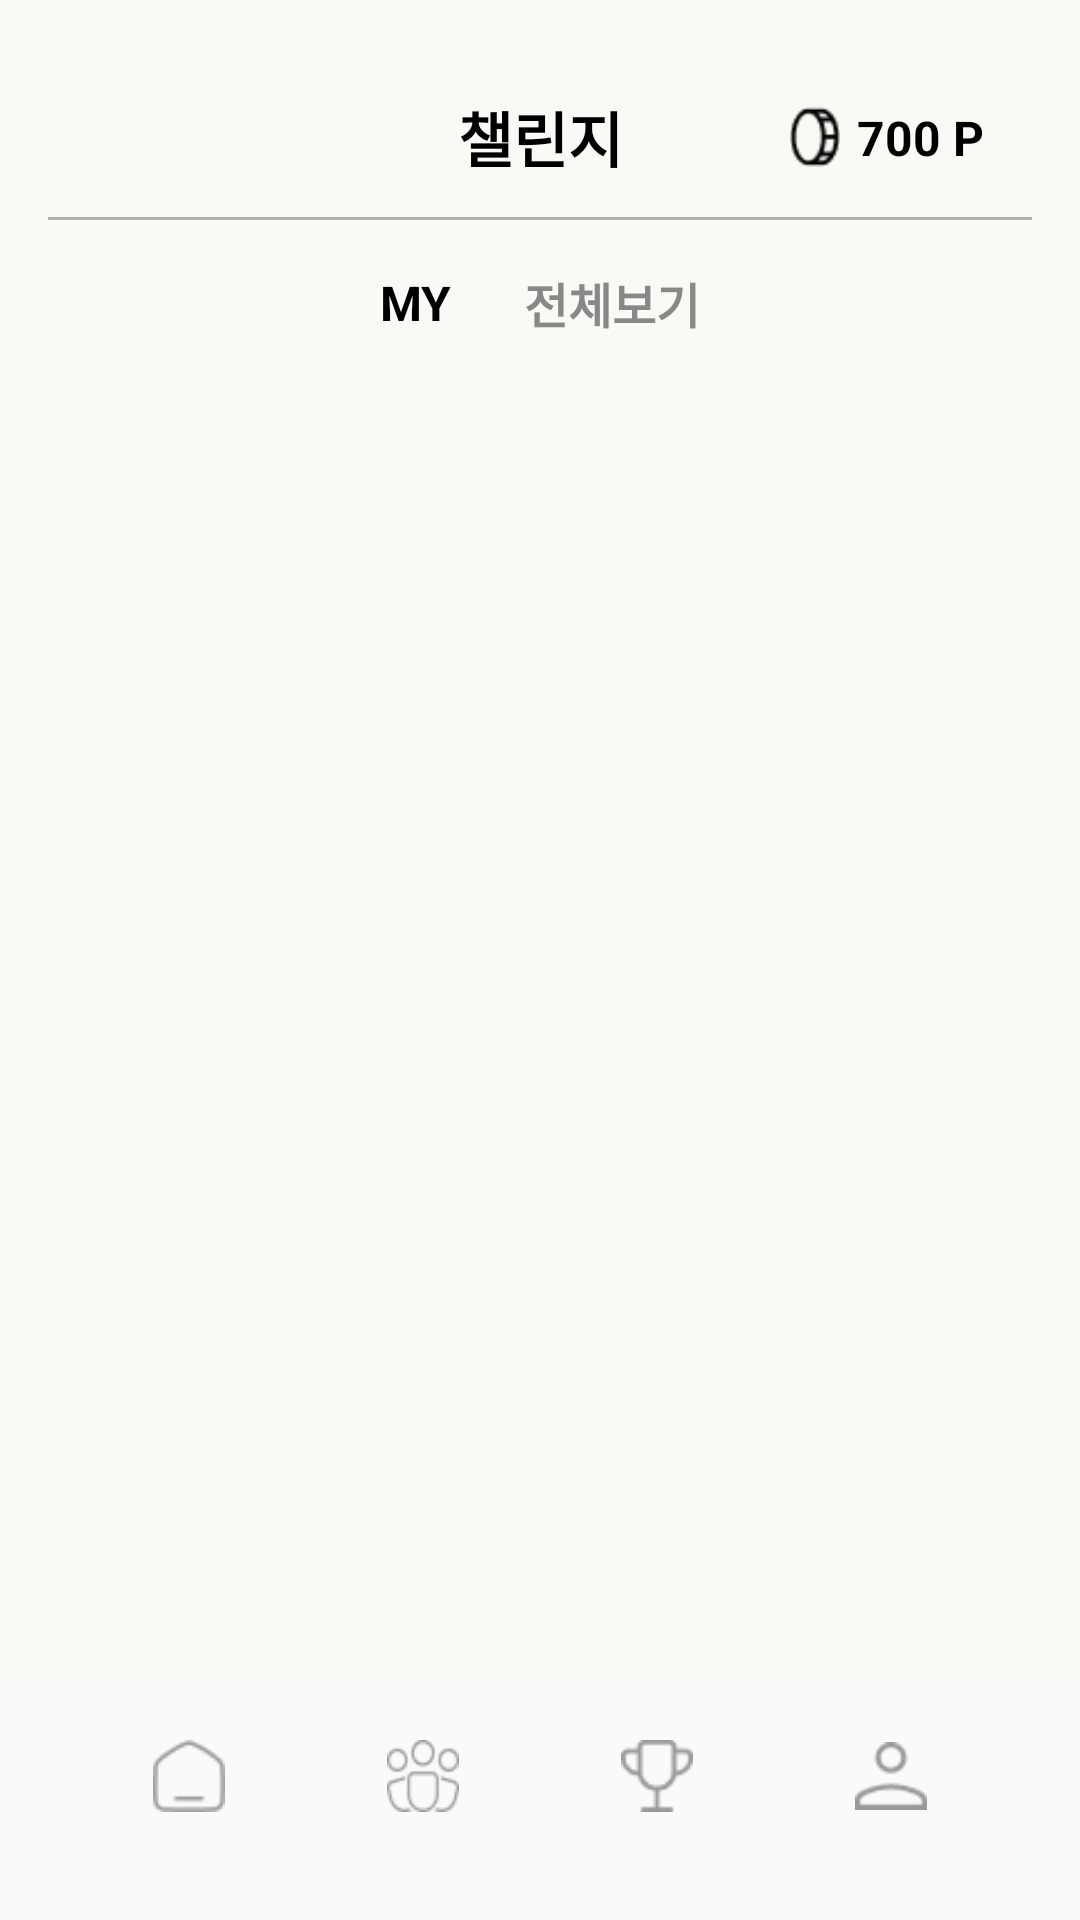

Named icons in this screenshot (1080px x 1920px) and their centers, point (x, y):
point: point (815, 137)
마이 아이콘: point (891, 1776)
챌린지 아이콘: point (657, 1776)
커뮤니티 아이콘: point (423, 1776)
홈 아이콘: point (189, 1776)
